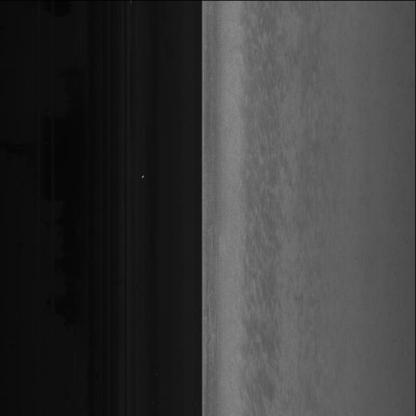silk_spot: (235, 167, 312, 272)
